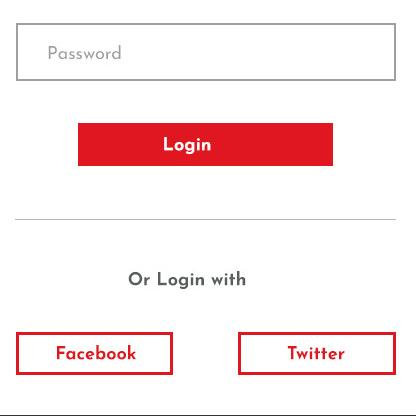button: (74, 120, 339, 169), (235, 332, 402, 379), (11, 331, 177, 378)
field: (13, 20, 402, 85)
